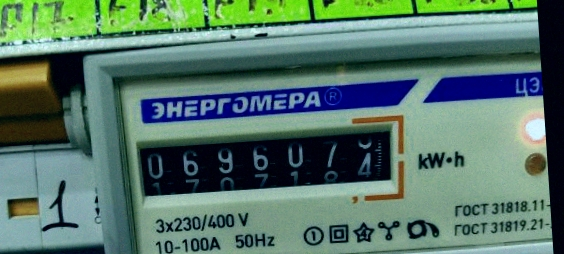0: (143, 149, 165, 181), (284, 139, 305, 169)
4: (352, 150, 373, 180)
6: (248, 141, 270, 174), (178, 147, 199, 177)
7: (319, 136, 339, 168)
9: (213, 145, 235, 175)
screen: (123, 107, 411, 218)
